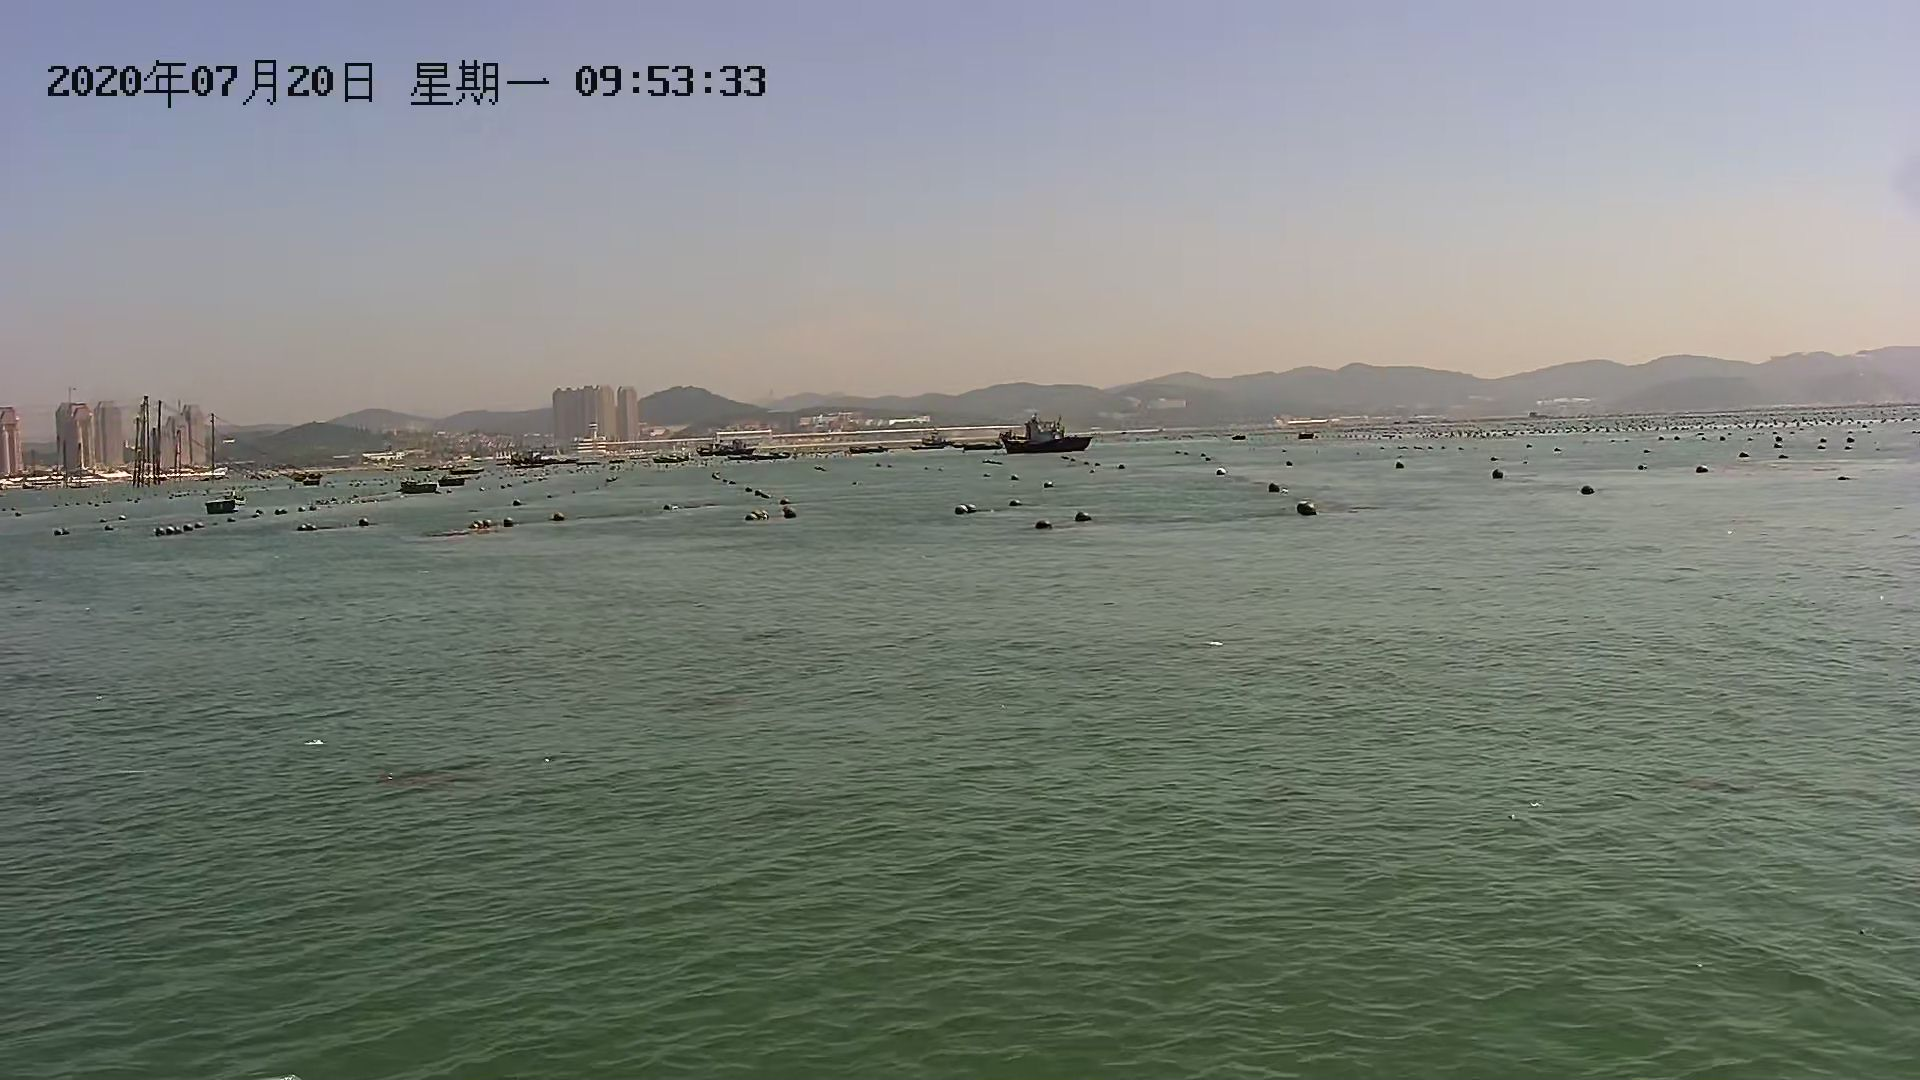ball: (953, 498, 992, 520), (737, 506, 773, 522), (1383, 454, 1414, 472), (1575, 473, 1596, 497), (1263, 479, 1292, 496), (1295, 504, 1323, 521), (154, 522, 189, 535), (775, 498, 799, 516), (1064, 516, 1100, 525), (498, 516, 521, 530), (1490, 468, 1513, 483), (1034, 516, 1054, 530), (1695, 458, 1712, 473), (297, 520, 315, 534)
boat: (705, 436, 796, 464), (913, 435, 1009, 460), (513, 447, 571, 467)
ship: (1001, 410, 1098, 458)
